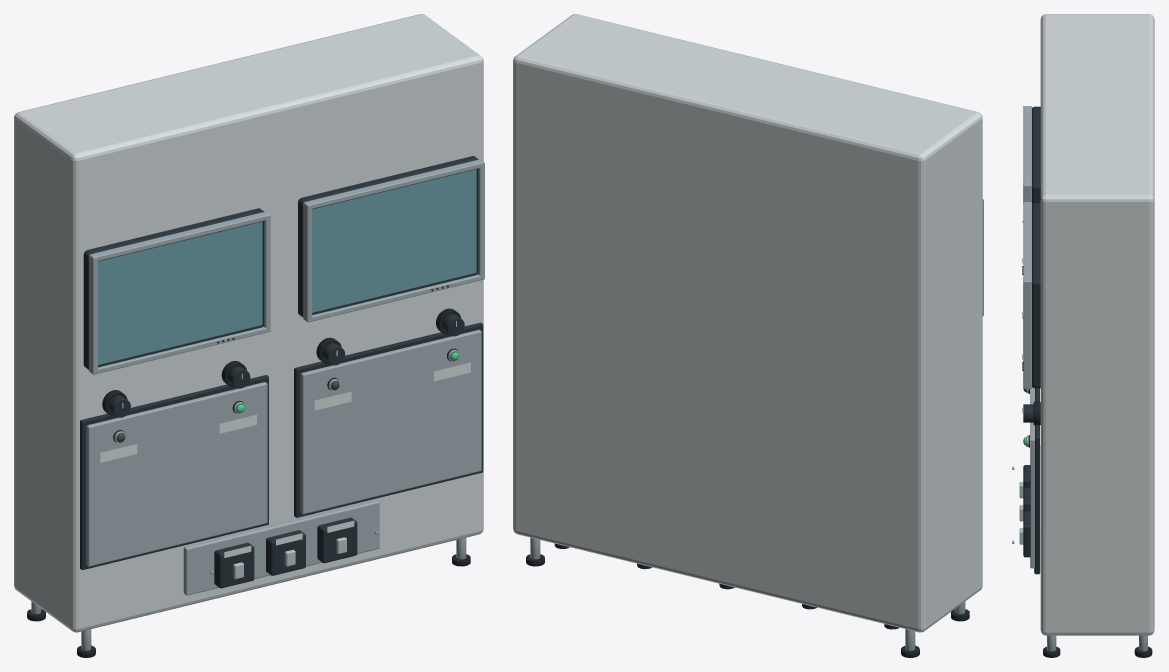
Rendered from OD_ProcessControlBay.fbx.
The picture shows the model from 3 angles, left to right: view 1: azimuth 30°, elevation 25°; view 2: azimuth 150°, elevation 25°; view 3: azimuth 270°, elevation 25°; orthographic projection. The views are drawn at different scales.
Parts seen in each view (by area): view 1: OD_ProcessControlBay; view 2: OD_ProcessControlBay; view 3: OD_ProcessControlBay.
Boxes of the visible parts, <box> form: OD_ProcessControlBay: <box>14,14,484,657</box>; OD_ProcessControlBay: <box>513,14,983,657</box>; OD_ProcessControlBay: <box>1012,14,1154,657</box>.
Bounding box in the file's own units: 200 × 235 × 64.9.
